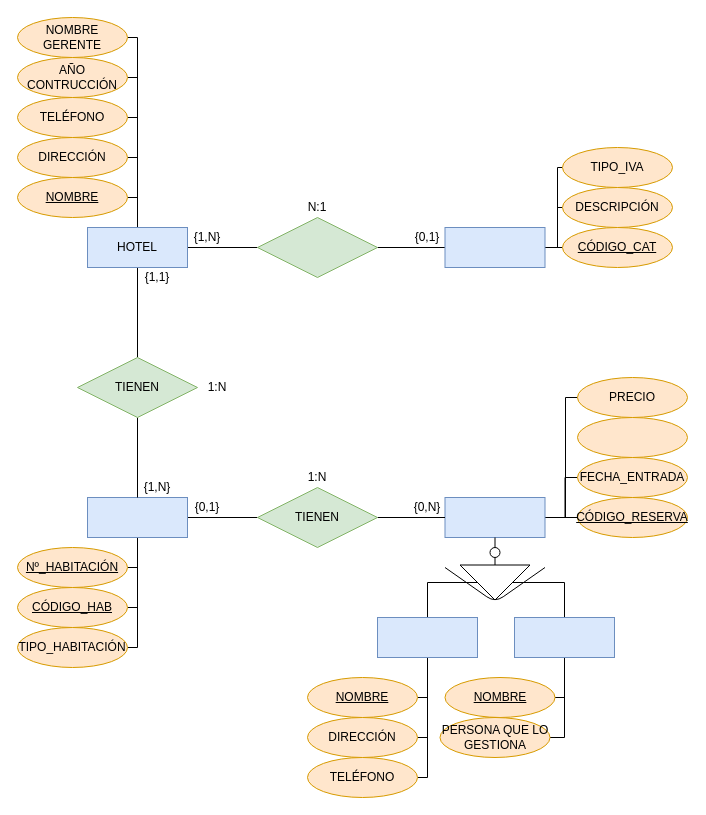
This 706x815 diagram has some shape labels left out. Here are the shapes that lost their labels. From the top down, the centre of each, then its label:
the point at 317,247: SE CLASIFICA
the point at 494,247: CATEGORÍAS
the point at 632,437: FECHA_SALIDA
the point at 137,517: HABITACIONES
the point at 494,517: RESERVAS
the point at 427,637: PARTICULARES
the point at 564,637: AGENCIAS DE VIAJES
